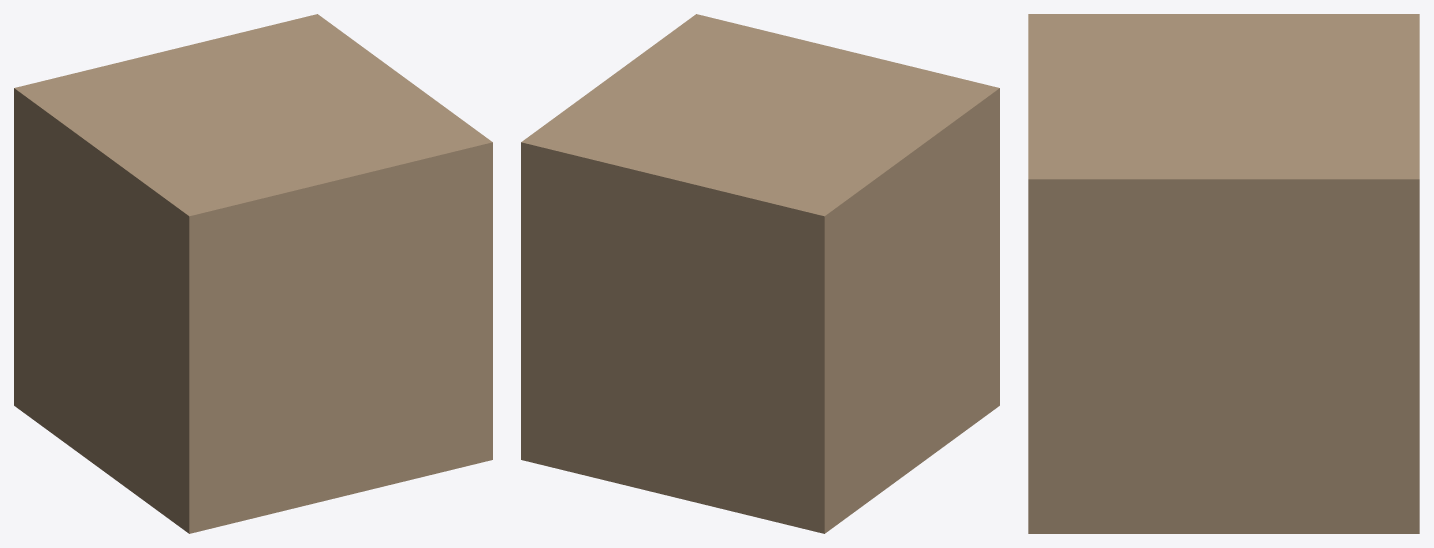
The picture shows the model from 3 angles, left to right: view 1: azimuth 30°, elevation 25°; view 2: azimuth 150°, elevation 25°; view 3: azimuth 270°, elevation 25°; orthographic projection. The views are drawn at different scales.
Parts seen in each view (by area): view 1: Mesh_Mesh_head_geo.001_lambert2SG.001; view 2: Mesh_Mesh_head_geo.001_lambert2SG.001; view 3: Mesh_Mesh_head_geo.001_lambert2SG.001.
Boxes of the visible parts, box(x1,y1,x2,y2) form: Mesh_Mesh_head_geo.001_lambert2SG.001: box(14, 14, 492, 533); Mesh_Mesh_head_geo.001_lambert2SG.001: box(521, 14, 999, 533); Mesh_Mesh_head_geo.001_lambert2SG.001: box(1028, 14, 1419, 533).
Bounding box in the file's own units: 80 × 84.5 × 80.
